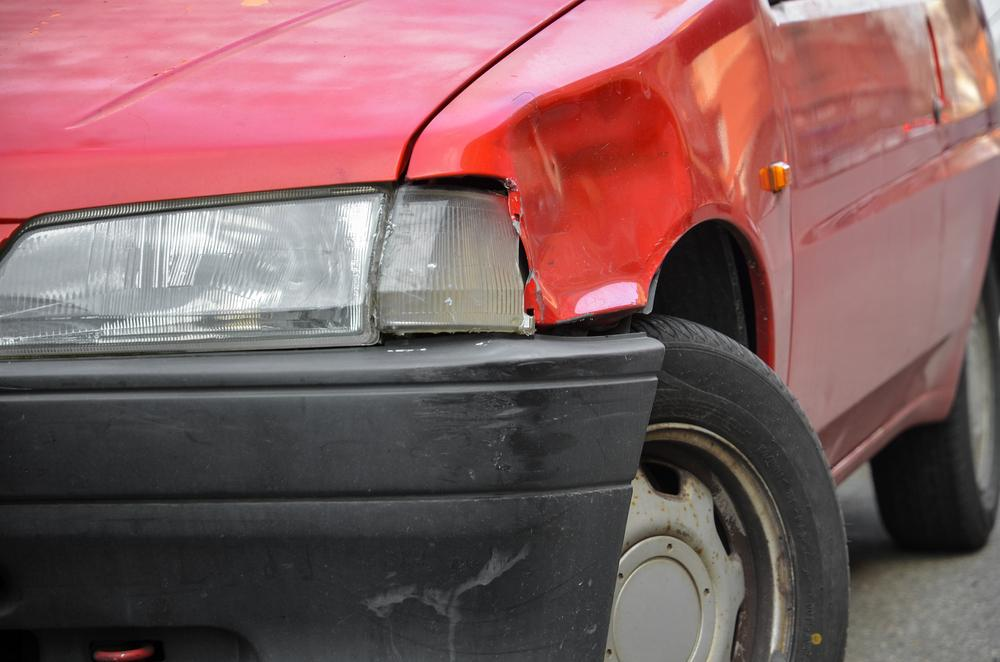dent: (508, 79, 691, 320)
